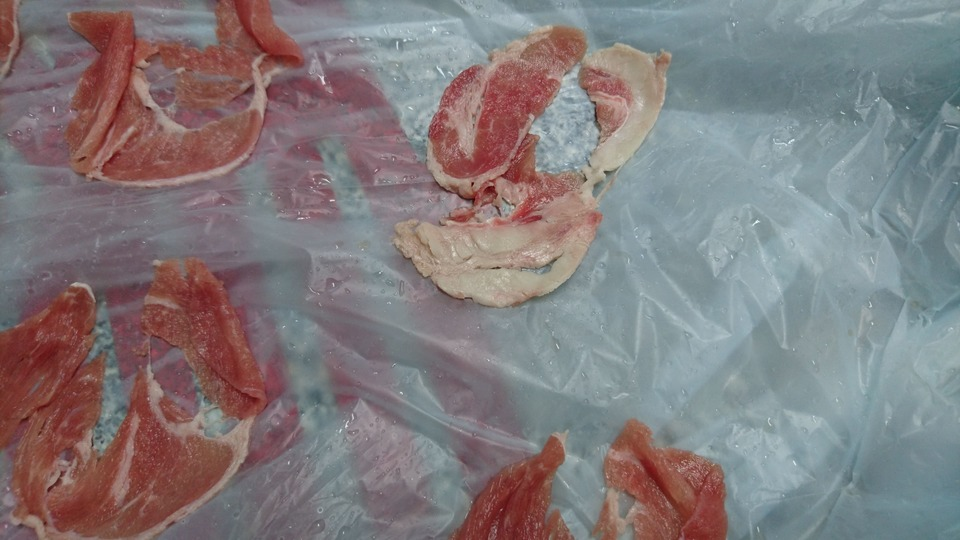restructured meat: (391, 22, 672, 306), (1, 256, 281, 540), (51, 1, 305, 193)
